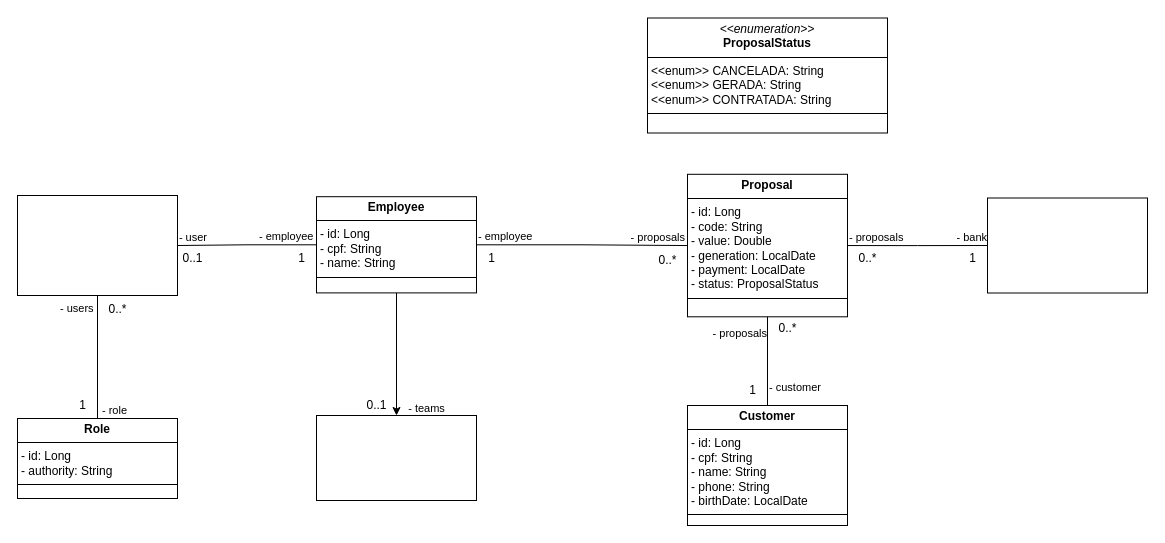
This 1165x543 diagram has some shape labels left out. Here are the shapes that lost their labels. From the top down, the centre of each, then its label:
At (97,245): "User - id: Long - username: String - password: String".
At (1067,245): "Bank - id: Long - code: Integer - name: String".
At (396,457): "Team - id: Long - name: String".
